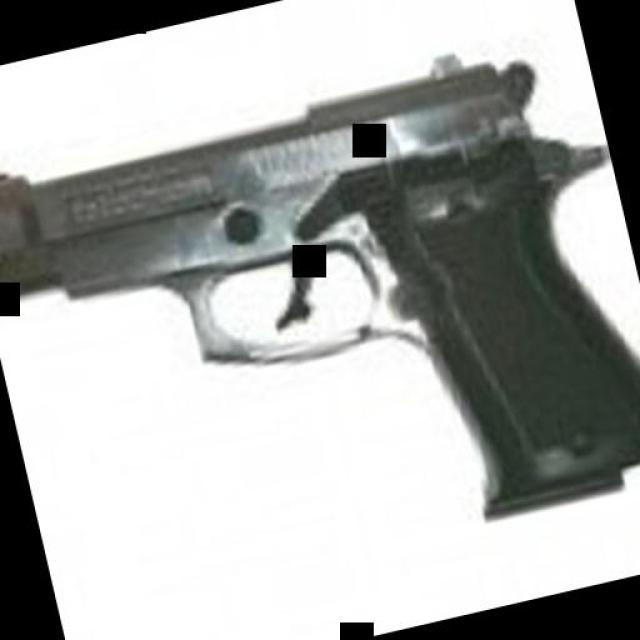gun: (0, 30, 640, 618)
